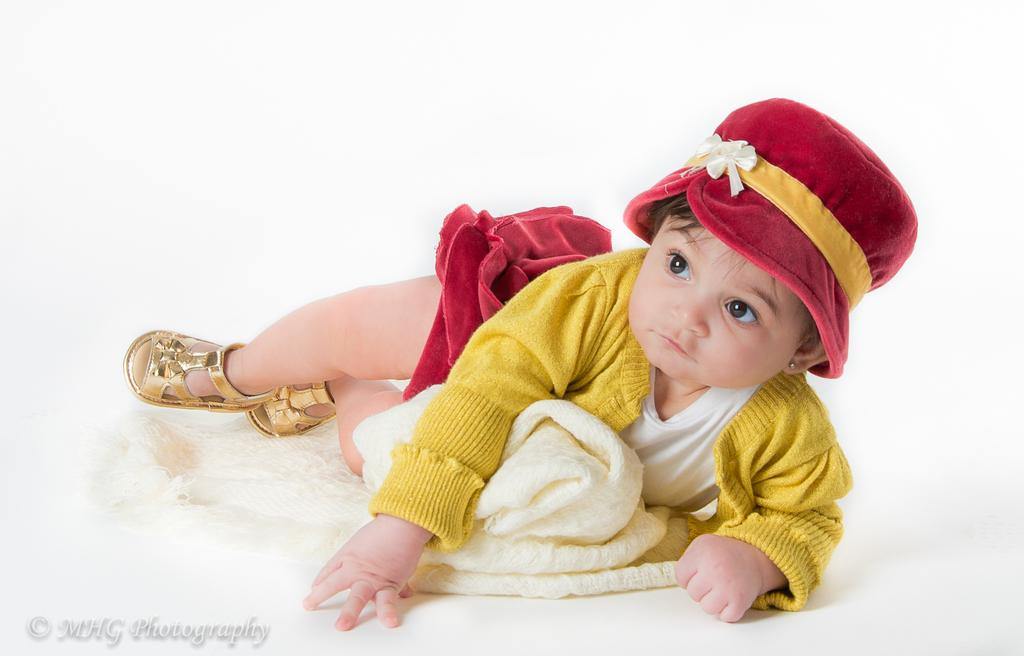Hat: (621, 95, 921, 384)
